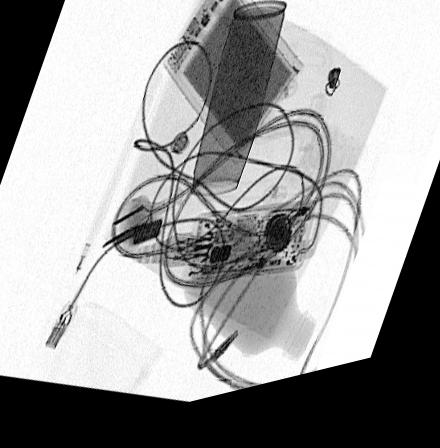Powerbank: (160, 0, 303, 179)
